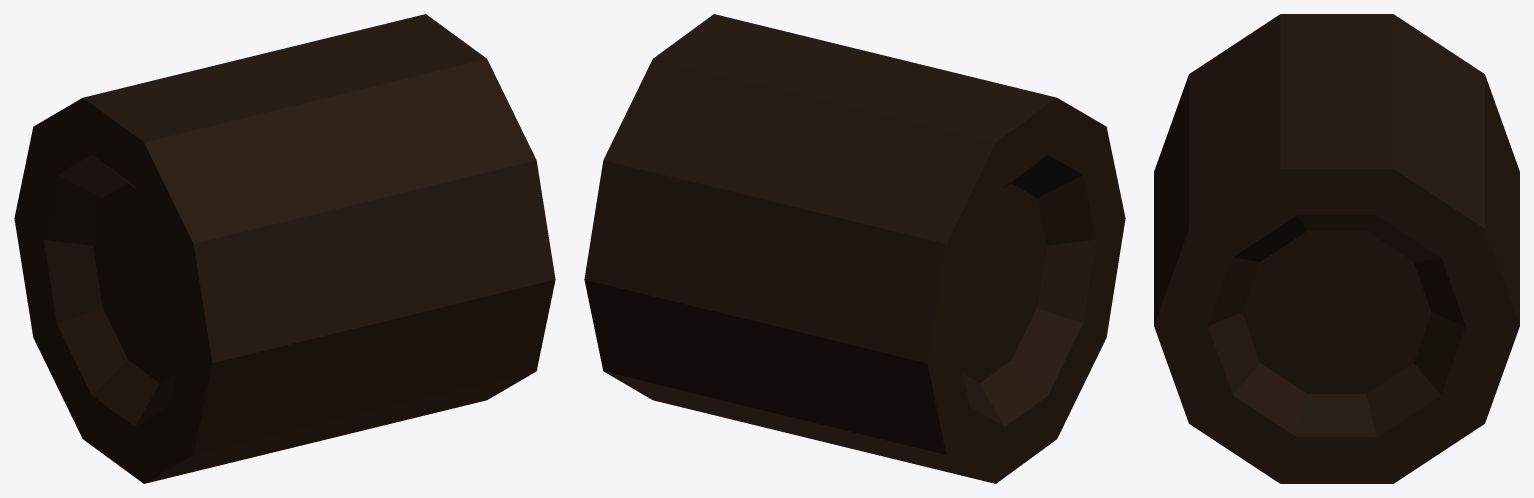
The model's file is SFFA_Pincer_Prop.fbx.
3 renders of one model, left to right at view 1: azimuth 30°, elevation 25°; view 2: azimuth 150°, elevation 25°; view 3: azimuth 270°, elevation 25°, orthographic. The views are drawn at different scales.
Visible parts, largest first — view 1: SFFA_Pincer_Prop; view 2: SFFA_Pincer_Prop; view 3: SFFA_Pincer_Prop.
Boxes of the visible parts, x1,y1,x2,y2 form: SFFA_Pincer_Prop: (14, 14, 555, 483); SFFA_Pincer_Prop: (584, 14, 1125, 483); SFFA_Pincer_Prop: (1154, 14, 1519, 483).
Size of the model in its own units: 1.84 by 1.75 by 1.84.
